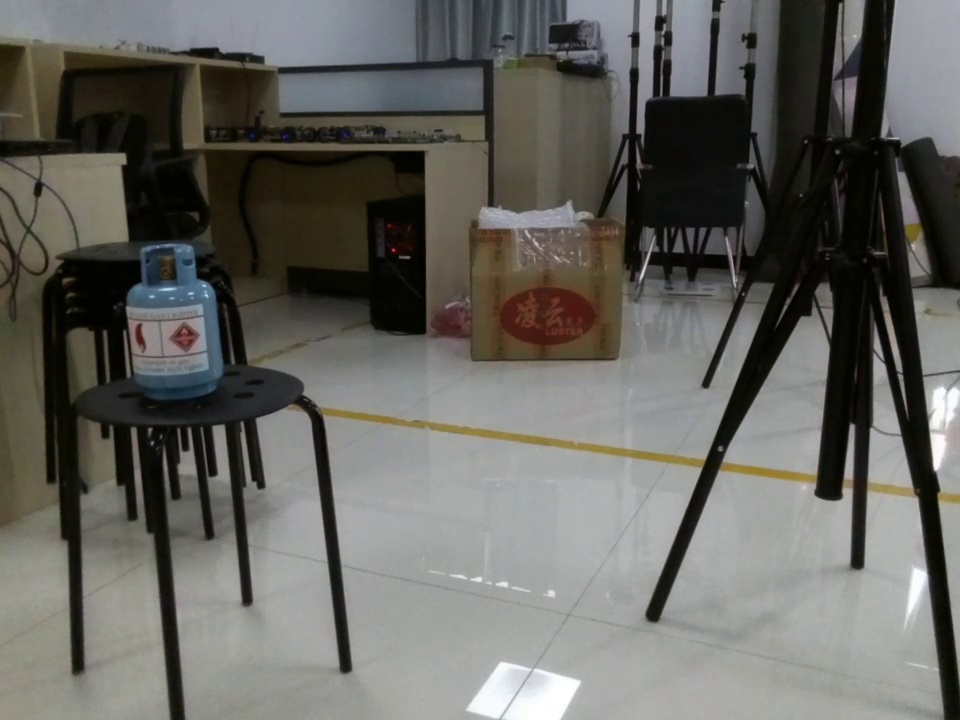gas tank: (122, 236, 228, 404)
